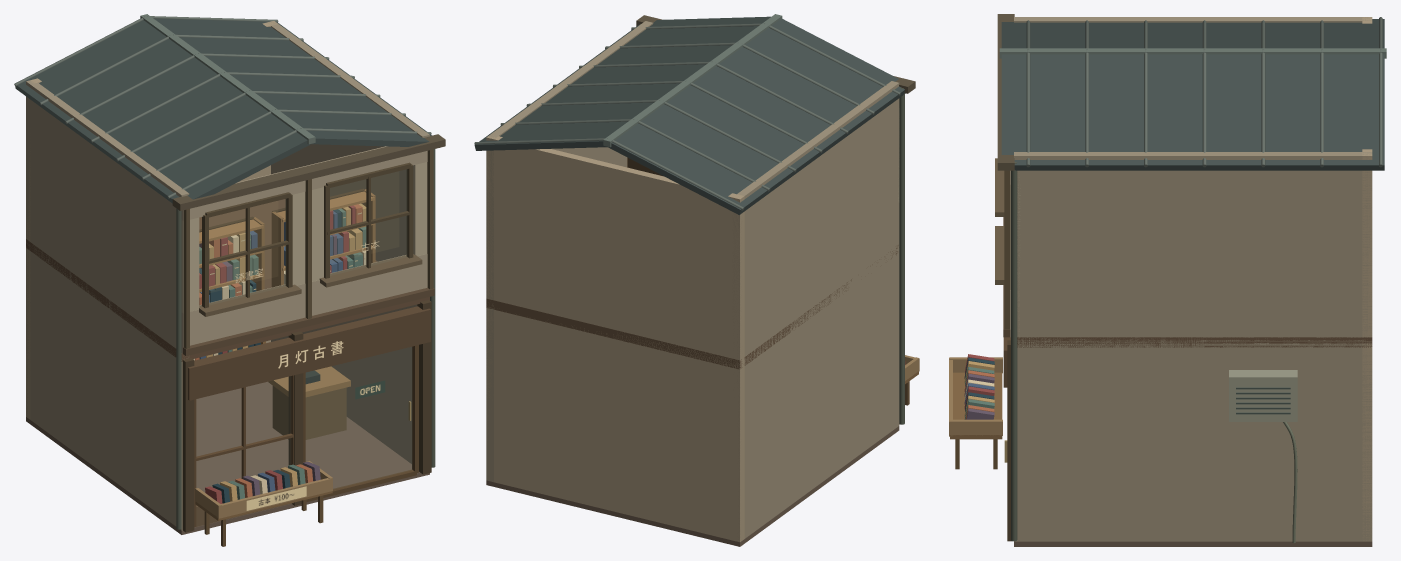
File: bookstore.glb
3 renders of one model, left to right at view 1: azimuth 30°, elevation 25°; view 2: azimuth 150°, elevation 25°; view 3: azimuth 270°, elevation 25°, orthographic. The views are drawn at different scales.
Visible parts, largest first — view 1: 月灯旧书店; view 2: 月灯旧书店; view 3: 月灯旧书店.
Part boxes in pixels (x1=…): 月灯旧书店: x1=14, y1=14, x2=445, y2=546; 月灯旧书店: x1=474, y1=14, x2=919, y2=546; 月灯旧书店: x1=949, y1=14, x2=1386, y2=546.
Size of the model in its own units: 5.01 by 6.59 by 6.12.
64 materials, 5 textured.
